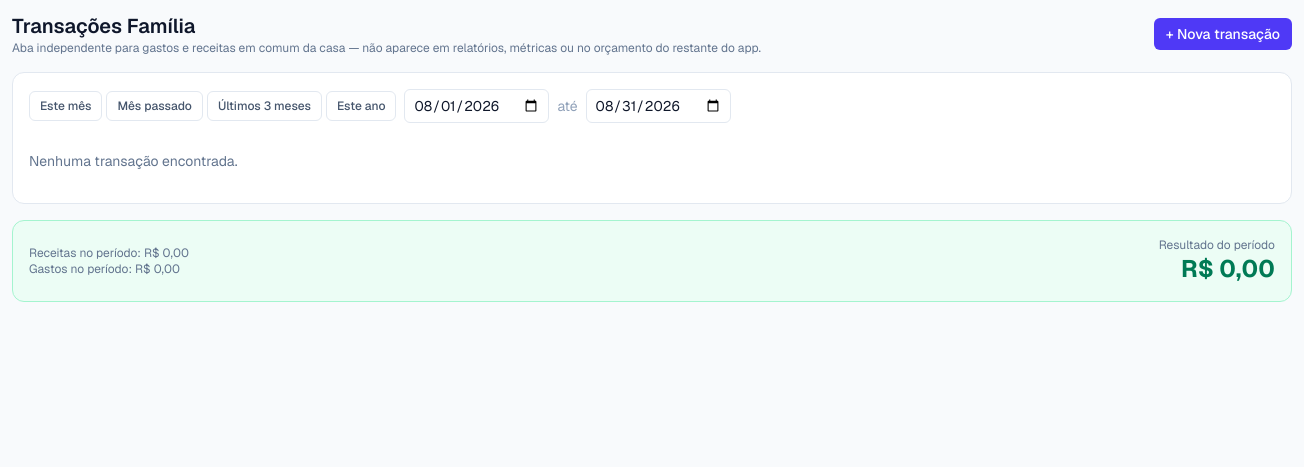
página /transacoes-familia — formulário › abre e fecha pelo mesmo botão
The image size is (1304, 467).
Expected: the text "Nenhuma transação encontrada." is shown, [29,152,238,170]
Click the button "+ Nova transação": [1223, 34] box [1154,18,1292,50]
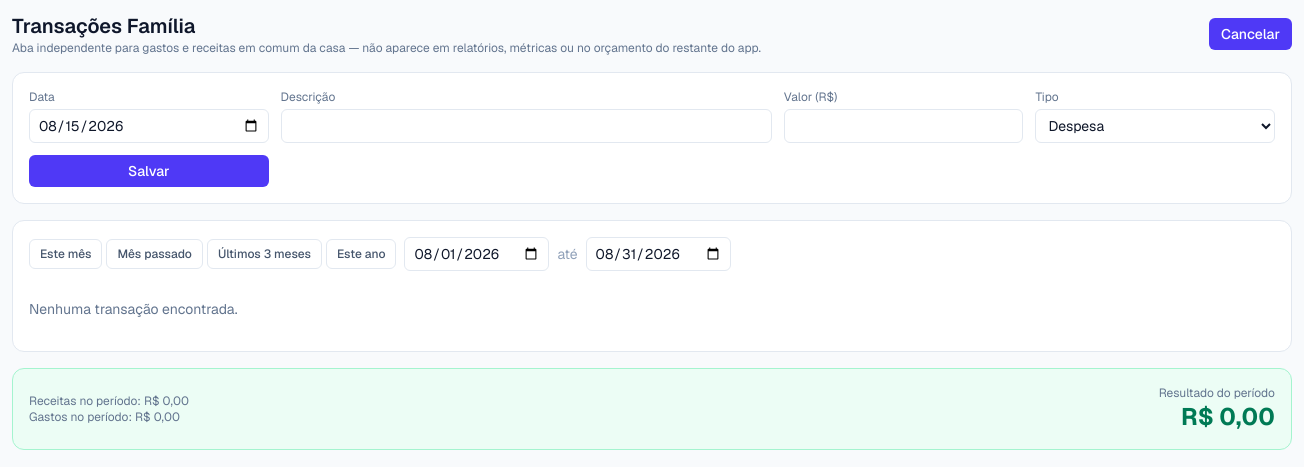
Expected: the button "Salvar" is shown, [29,155,269,187]
Click the button "Cancelar": [1251, 34] box [1209,18,1292,50]
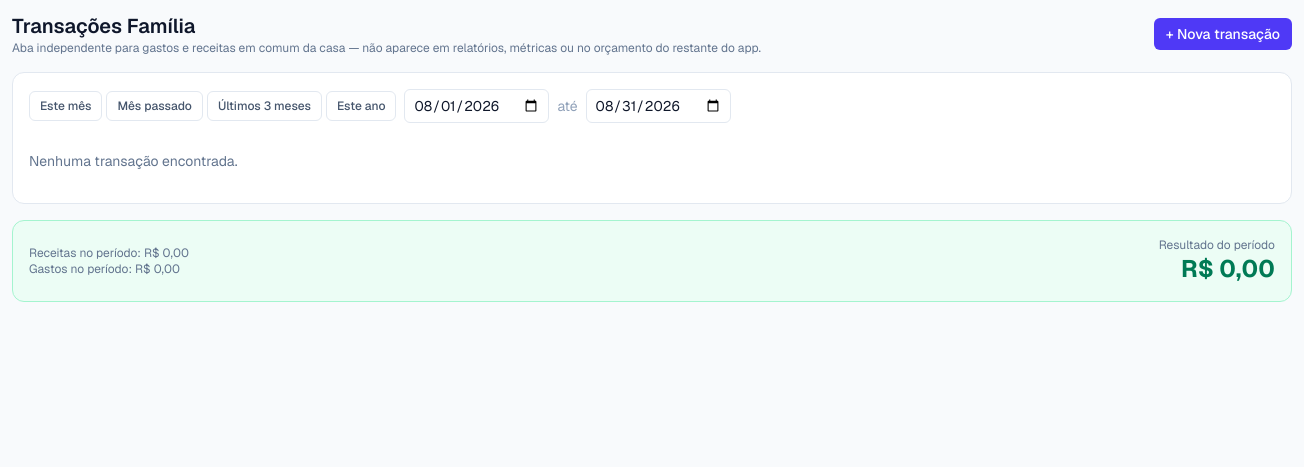
Expected: the button "Salvar" is gone
